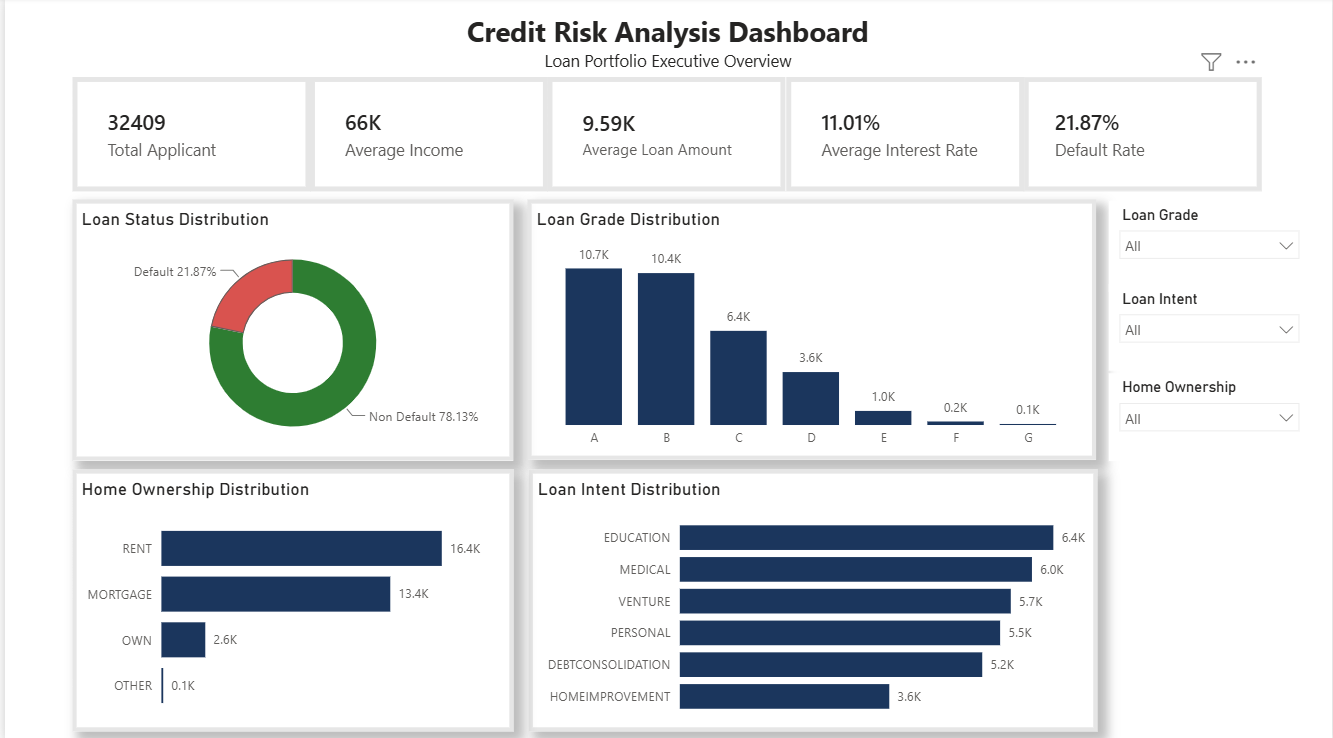

Layout of this report page (visuals, bound fields, positions):
{"tool":"powerbi","page":{"name":"Executive Overview","canvas":[1280,720],"ordinal":0},"visuals":[{"type":"textbox","box":[435.3,9.8,408.4,67.3],"z":0},{"type":"cardVisual","fields":{"Data":["Measures .Total Applicant"]},"box":[64.8,77,229.6,110.1],"z":1000},{"type":"donutChart","title":"Loan Status Distribution","fields":{"Category":["public_credit_risk.loan_status_label"],"Y":["CountNonNull(public_credit_risk.loan_status_label)"]},"box":[64.8,195.7,425.5,251.9],"z":2000},{"type":"cardVisual","fields":{"Data":["Measures .Average Income"]},"box":[294.5,77,229.6,110.1],"z":3000},{"type":"clusteredColumnChart","title":"Loan Grade Distribution","fields":{"Category":["public_credit_risk.loan_grade"],"Y":["CountNonNull(public_credit_risk.loan_grade)"]},"box":[503.8,195,548.8,251.2],"z":4000},{"type":"cardVisual","fields":{"Data":["Measures .Average Loan Amount"]},"box":[524.1,77,229.6,110.1],"z":5000},{"type":"clusteredBarChart","title":"Loan Intent Distribution","fields":{"Category":["public_credit_risk.loan_intent"],"Y":["CountNonNull(public_credit_risk.loan_intent)"]},"box":[505,456.2,548.8,252.5],"z":6000},{"type":"cardVisual","fields":{"Data":["Measures .Default Rate"]},"box":[983.4,77,229.6,110.1],"z":7000},{"type":"clusteredBarChart","title":"Home Ownership Distribution","fields":{"Category":["public_credit_risk.person_home_ownership"],"Y":["CountNonNull(public_credit_risk.person_home_ownership)"]},"box":[64.8,456.1,425.5,253.1],"z":8000},{"type":"cardVisual","fields":{"Data":["Measures .Average Interest Rate"]},"box":[753.8,77,229.6,110.1],"z":9000},{"type":"group","id":"g1","title":"Group 1","box":[1065,196.2,193.8,251.2],"z":10000},{"type":"slicer","fields":{"Values":["public_credit_risk.loan_grade"]},"box":[1065,196.2,193.7,87.6],"z":10000,"group":"g1"},{"type":"slicer","fields":{"Values":["public_credit_risk.loan_intent"]},"box":[1065,276.5,193.7,83.3],"z":11000,"group":"g1"},{"type":"slicer","fields":{"Values":["public_credit_risk.person_home_ownership"]},"box":[1065,362.7,193.7,84.7],"z":12000,"group":"g1"}]}

Visuals, with their boxes in screenshot pixels (x1, y1, x2, y2), scaled from the page's 1280x720 canvas onto the 1333x738 screenshot:
textbox: (left=453, top=10, right=879, bottom=79)
cardVisual - Measures .Total Applicant: (left=67, top=79, right=307, bottom=192)
"Loan Status Distribution" donutChart: (left=67, top=201, right=511, bottom=459)
cardVisual - Measures .Average Income: (left=307, top=79, right=546, bottom=192)
"Loan Grade Distribution" clusteredColumnChart: (left=525, top=200, right=1096, bottom=457)
cardVisual - Measures .Average Loan Amount: (left=546, top=79, right=785, bottom=192)
"Loan Intent Distribution" clusteredBarChart: (left=526, top=468, right=1097, bottom=726)
cardVisual - Measures .Default Rate: (left=1024, top=79, right=1263, bottom=192)
"Home Ownership Distribution" clusteredBarChart: (left=67, top=468, right=511, bottom=727)
cardVisual - Measures .Average Interest Rate: (left=785, top=79, right=1024, bottom=192)
"Group 1" group: (left=1109, top=201, right=1311, bottom=459)
slicer - public_credit_risk.loan_grade: (left=1109, top=201, right=1311, bottom=291)
slicer - public_credit_risk.loan_intent: (left=1109, top=283, right=1311, bottom=369)
slicer - public_credit_risk.person_home_ownership: (left=1109, top=372, right=1311, bottom=459)
